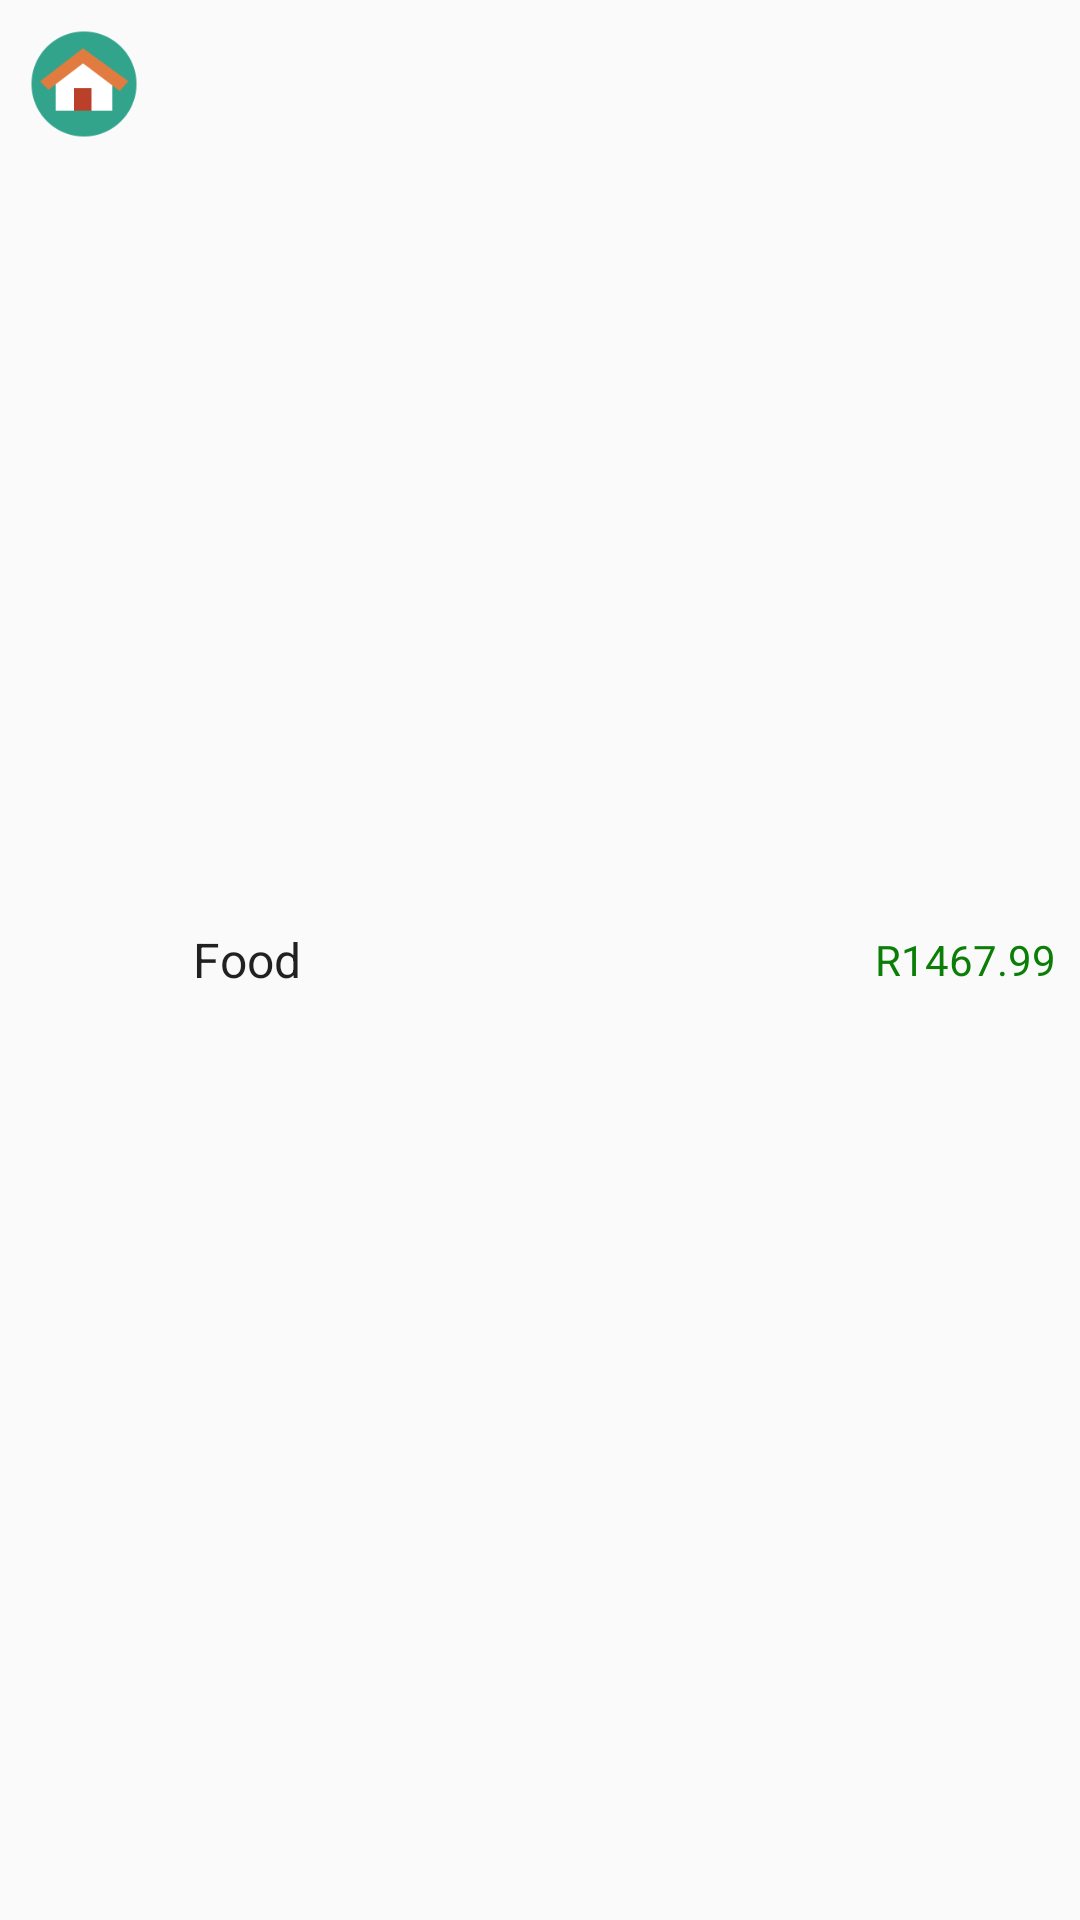

Named icons in this screenshot (1080×1920) and their centers, point (x, y):
category family: point (84, 84)
